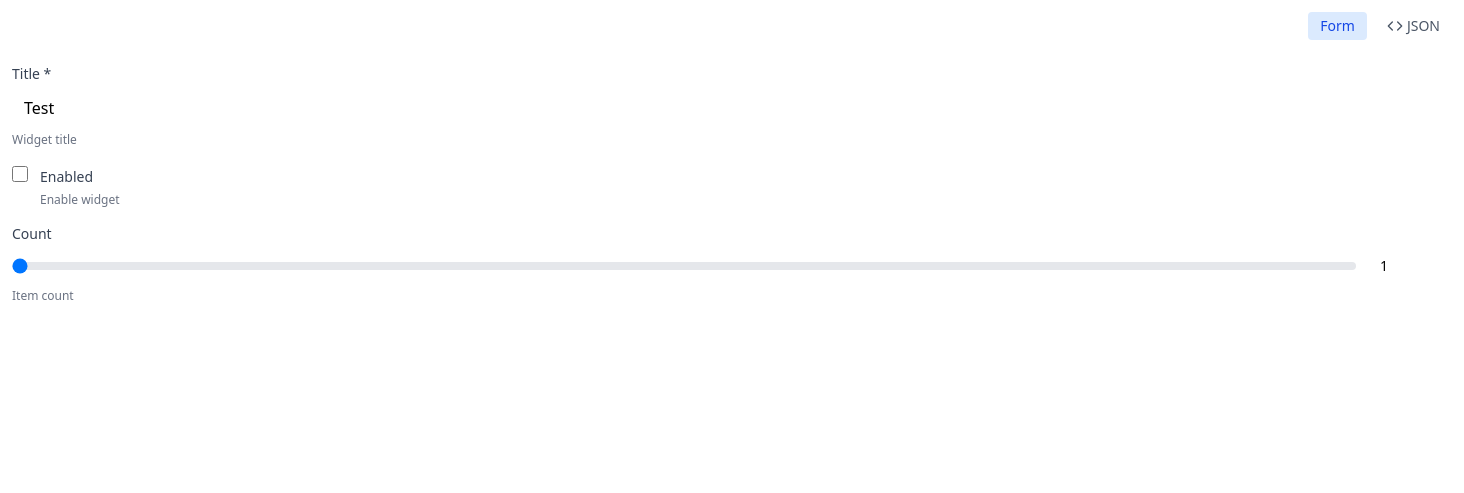
Test case: DynamicWidgetConfigForm › switches between form and JSON view
Expected: the button "Form" is shown, [1308,12,1367,40]
Click the button "JSON" at (1413, 26), box [1375,12,1452,40]
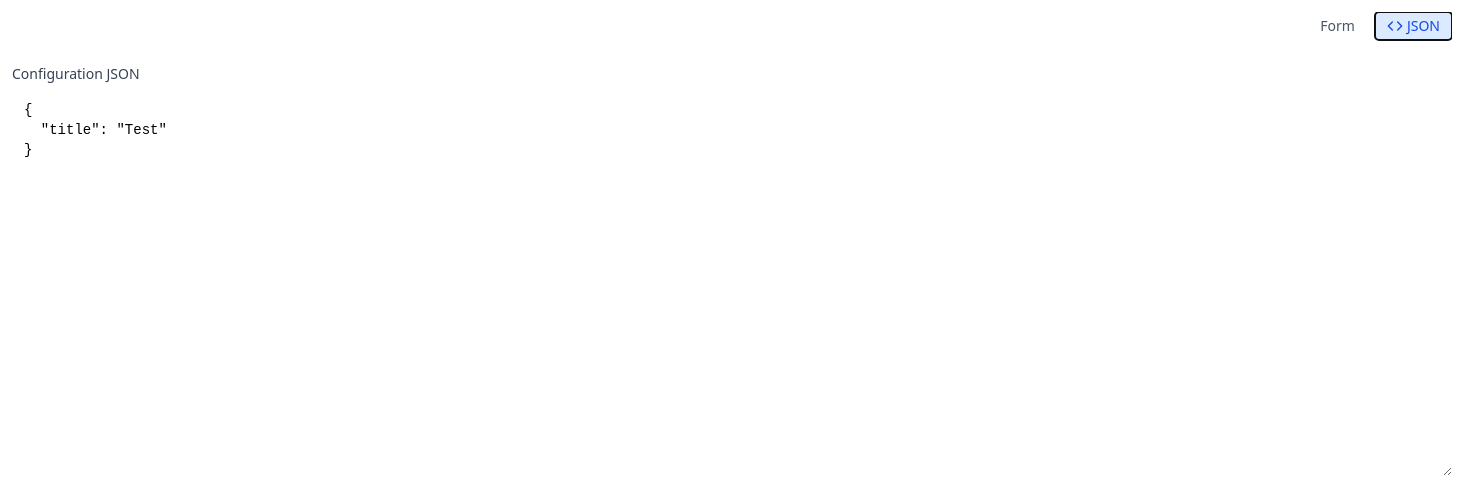
Expected: the text "Configuration JSON" is shown, [12,64,140,83]
Expected: the text box labelled "Configuration JSON" is shown
